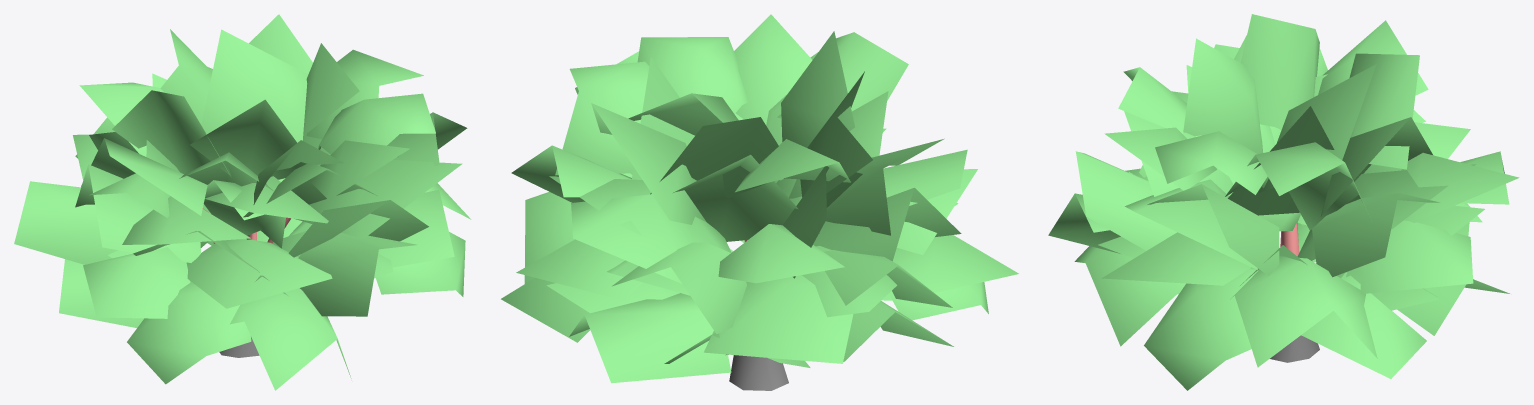
File: Oren_tree_S__Oren_Darkelf_tree09.gltf
The picture shows the model from 3 angles, left to right: view 1: azimuth 30°, elevation 25°; view 2: azimuth 150°, elevation 25°; view 3: azimuth 270°, elevation 25°; orthographic projection. The views are drawn at different scales.
Parts seen in each view (by area): view 1: Oren_Darkelf_tree09; view 2: Oren_Darkelf_tree09; view 3: Oren_Darkelf_tree09.
Part boxes in pixels (<box>): Oren_Darkelf_tree09: <box>14,14,471,390</box>; Oren_Darkelf_tree09: <box>501,14,1018,390</box>; Oren_Darkelf_tree09: <box>1048,14,1519,390</box>.
Bounding box in the file's own units: 13.3 × 8.76 × 12.5.
